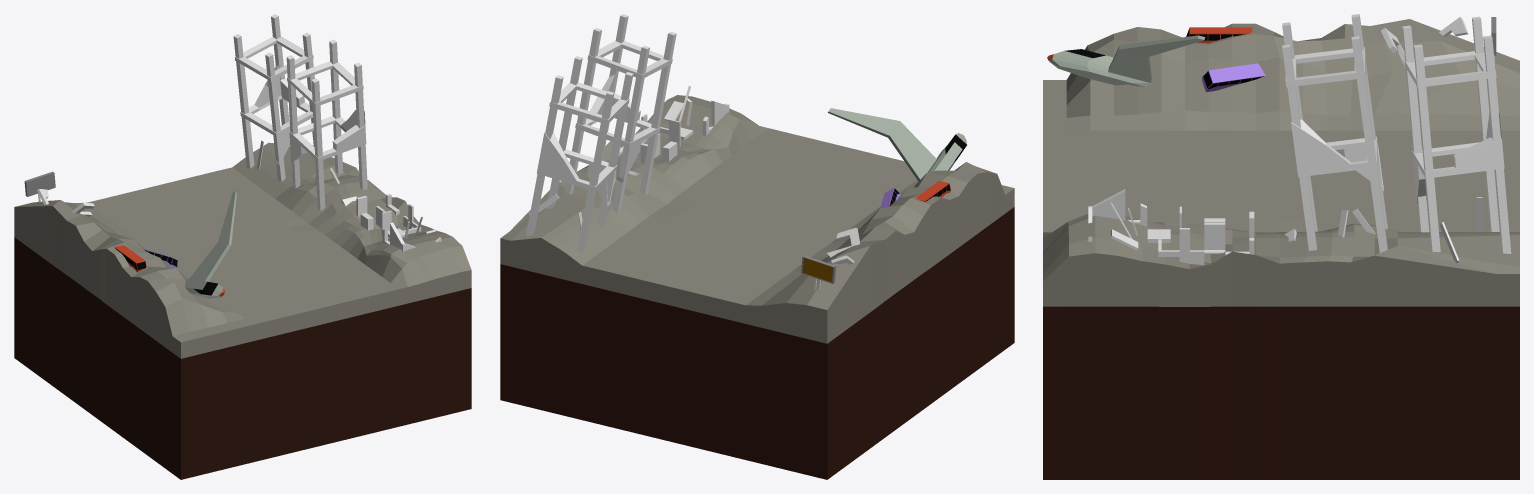
Rendered from lvl3reborn.fbx.
3 renders of one model, left to right at view 1: azimuth 30°, elevation 25°; view 2: azimuth 150°, elevation 25°; view 3: azimuth 270°, elevation 25°, orthographic. The views are drawn at different scales.
Visible parts, largest first — view 1: lvl3, Cube.005, Cube.004, Cube.016, Cube.017, Cube.013; view 2: lvl3, Cube.004, Cube.005, Cube.016, Cube.017, Cube.013; view 3: lvl3, Cube.004, Cube.005, Cube.016, Cube.017, Cube.015, Cube.002, Cube.014, Cube.003.
Boxes of the visible parts, x1,y1,x2,y2 form: lvl3: [14, 142, 471, 479]; Cube.005: [286, 39, 367, 211]; Cube.004: [233, 14, 314, 181]; Cube.016: [184, 191, 236, 299]; Cube.017: [356, 194, 421, 234]; Cube.013: [24, 171, 55, 196]; lvl3: [500, 95, 1014, 479]; Cube.004: [526, 56, 633, 253]; Cube.005: [564, 14, 676, 212]; Cube.016: [828, 108, 967, 181]; Cube.017: [618, 114, 680, 165]; Cube.013: [801, 255, 836, 283]; lvl3: [1043, 19, 1519, 479]; Cube.004: [1402, 16, 1511, 253]; Cube.005: [1282, 14, 1387, 252]; Cube.016: [1047, 35, 1205, 86]; Cube.017: [1158, 206, 1254, 265]; Cube.015: [1202, 63, 1265, 92]; Cube.002: [1088, 189, 1147, 241]; Cube.014: [1186, 27, 1252, 43]; Cube.003: [1381, 17, 1468, 67].
Size of the model in its own units: 4163 by 4032 by 4125.
